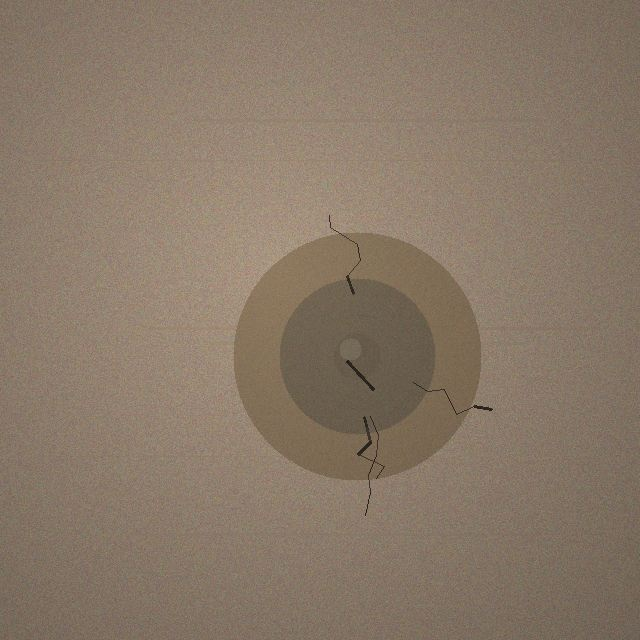crack: (233, 232, 481, 480)
